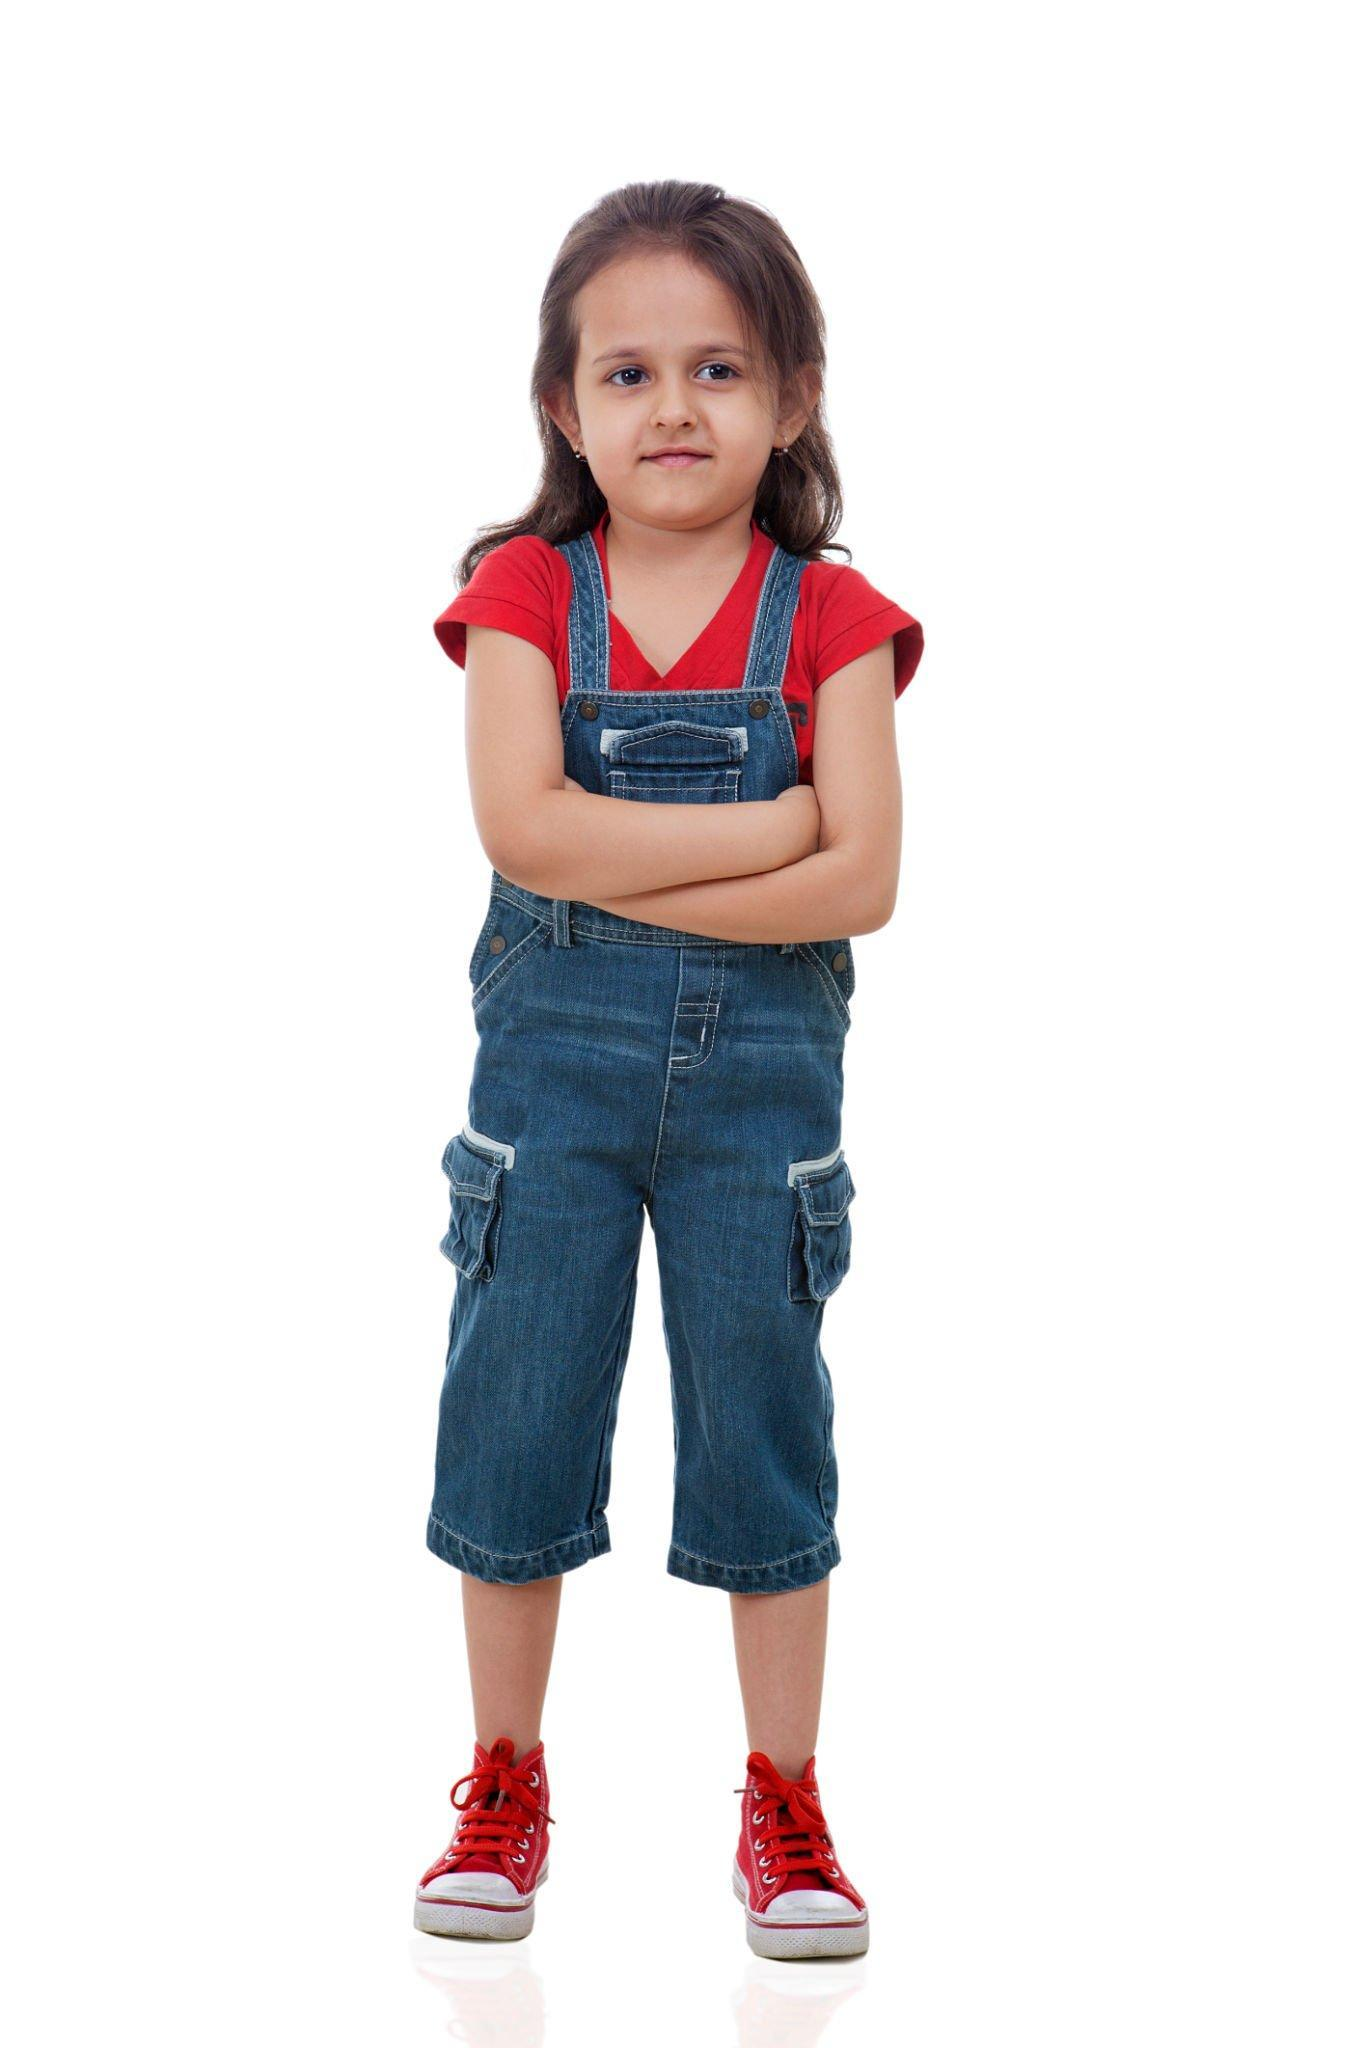Healthy: (537, 177, 839, 573)
